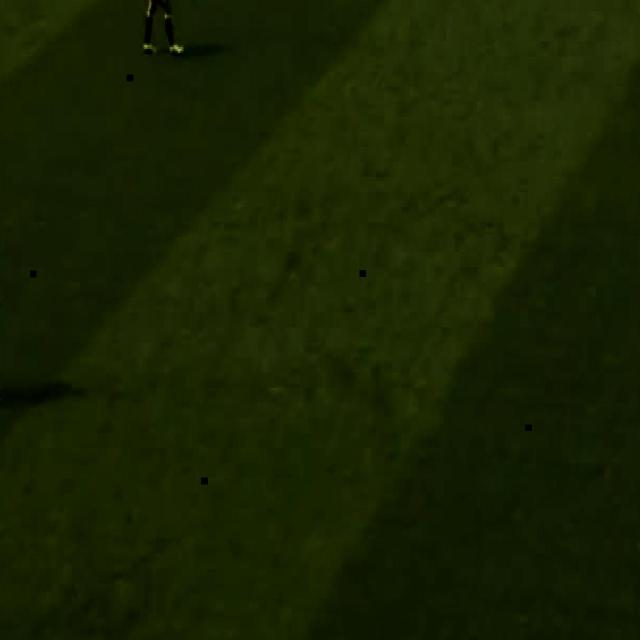player-white: (143, 0, 183, 54)
